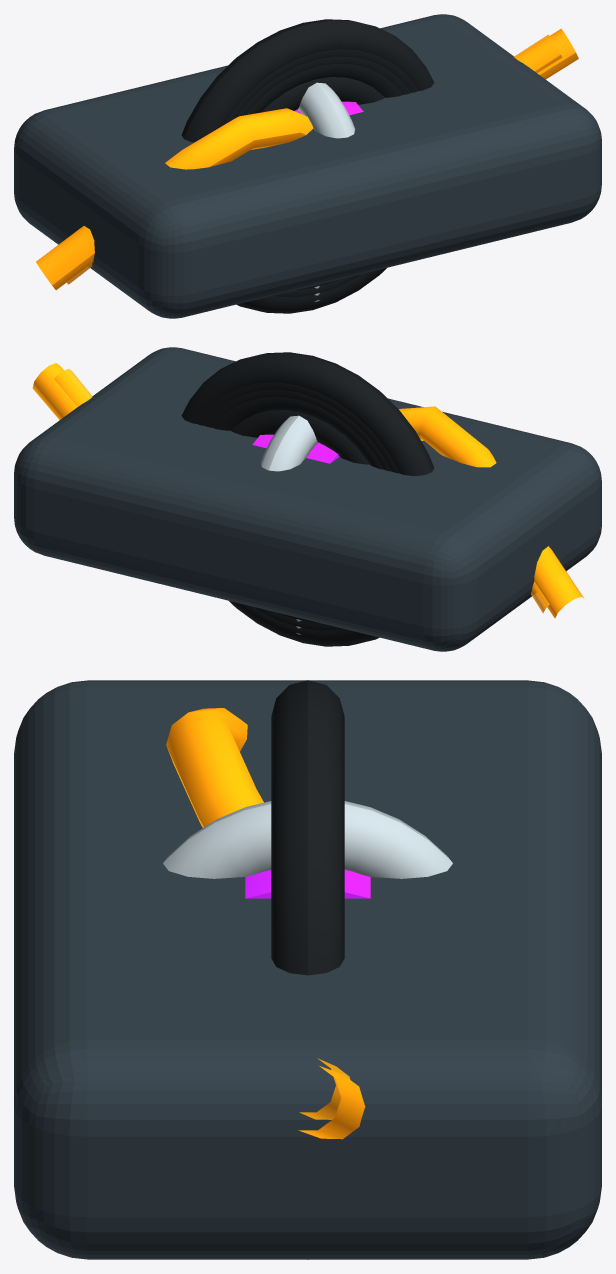
Rendered from body_14.glb.
3 views of the same model, one above another, from view 1: azimuth 30°, elevation 25°; view 2: azimuth 150°, elevation 25°; view 3: azimuth 270°, elevation 25° (orthographic). The views are drawn at different scales.
Visible parts, largest first — view 1: asset_mesh__body_0674__reference_body, asset_mesh__body_0754__service_element, asset_mesh__body_0719__fluid_path, asset_mesh__body_0735__service_element, asset_mesh__body_0706__service_element, asset_mesh__body_0720__functional_ring, asset_mesh__body_0739__service_element, asset_mesh__body_0734__service_element, asset_mesh__body_0718__fluid_path; view 2: asset_mesh__body_0674__reference_body, asset_mesh__body_0754__service_element, asset_mesh__body_0719__fluid_path, asset_mesh__body_0706__service_element, asset_mesh__body_0735__service_element, asset_mesh__body_0739__service_element, asset_mesh__body_0720__functional_ring, asset_mesh__body_0734__service_element, asset_mesh__body_0718__fluid_path, asset_mesh__body_0720__rotor; view 3: asset_mesh__body_0674__reference_body, asset_mesh__body_0754__service_element, asset_mesh__body_0720__functional_ring, asset_mesh__body_0719__fluid_path, asset_mesh__body_0720__rotor.
Part boxes in pixels (x1=…): asset_mesh__body_0674__reference_body: x1=14, y1=14, x2=601, y2=318; asset_mesh__body_0754__service_element: x1=181, y1=19, x2=434, y2=313; asset_mesh__body_0719__fluid_path: x1=36, y1=28, x2=578, y2=290; asset_mesh__body_0735__service_element: x1=225, y1=49, x2=418, y2=297; asset_mesh__body_0706__service_element: x1=246, y1=63, x2=402, y2=114; asset_mesh__body_0720__functional_ring: x1=298, y1=82, x2=355, y2=138; asset_mesh__body_0739__service_element: x1=261, y1=77, x2=384, y2=112; asset_mesh__body_0734__service_element: x1=236, y1=56, x2=410, y2=290; asset_mesh__body_0718__fluid_path: x1=67, y1=34, x2=562, y2=284; asset_mesh__body_0674__reference_body: x1=14, y1=347, x2=601, y2=651; asset_mesh__body_0754__service_element: x1=181, y1=352, x2=434, y2=646; asset_mesh__body_0719__fluid_path: x1=32, y1=363, x2=584, y2=618; asset_mesh__body_0706__service_element: x1=213, y1=396, x2=383, y2=469; asset_mesh__body_0735__service_element: x1=197, y1=382, x2=399, y2=630; asset_mesh__body_0739__service_element: x1=231, y1=410, x2=369, y2=464; asset_mesh__body_0720__functional_ring: x1=260, y1=415, x2=317, y2=471; asset_mesh__body_0734__service_element: x1=205, y1=389, x2=392, y2=623; asset_mesh__body_0718__fluid_path: x1=54, y1=369, x2=549, y2=613; asset_mesh__body_0720__rotor: x1=252, y1=434, x2=339, y2=463; asset_mesh__body_0674__reference_body: x1=14, y1=680, x2=601, y2=1259; asset_mesh__body_0754__service_element: x1=271, y1=680, x2=344, y2=975; asset_mesh__body_0720__functional_ring: x1=163, y1=801, x2=452, y2=878; asset_mesh__body_0719__fluid_path: x1=166, y1=708, x2=365, y2=1139; asset_mesh__body_0720__rotor: x1=245, y1=870, x2=370, y2=898.
Bounding box in the file's own units: 1.73 × 0.8732 × 0.882.
